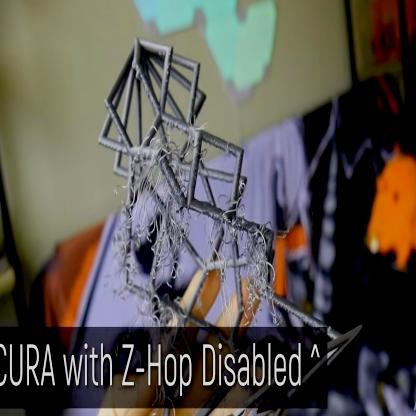fail: (131, 160, 185, 276), (244, 237, 272, 297)
